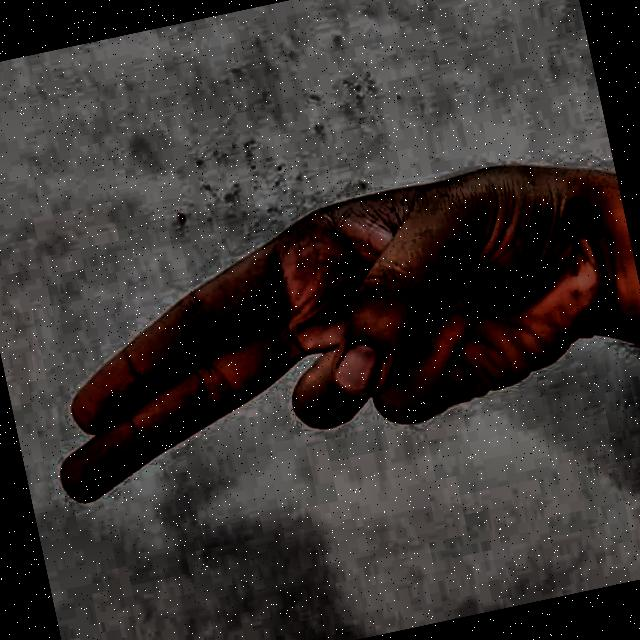Ha: (4, 111, 640, 640)
